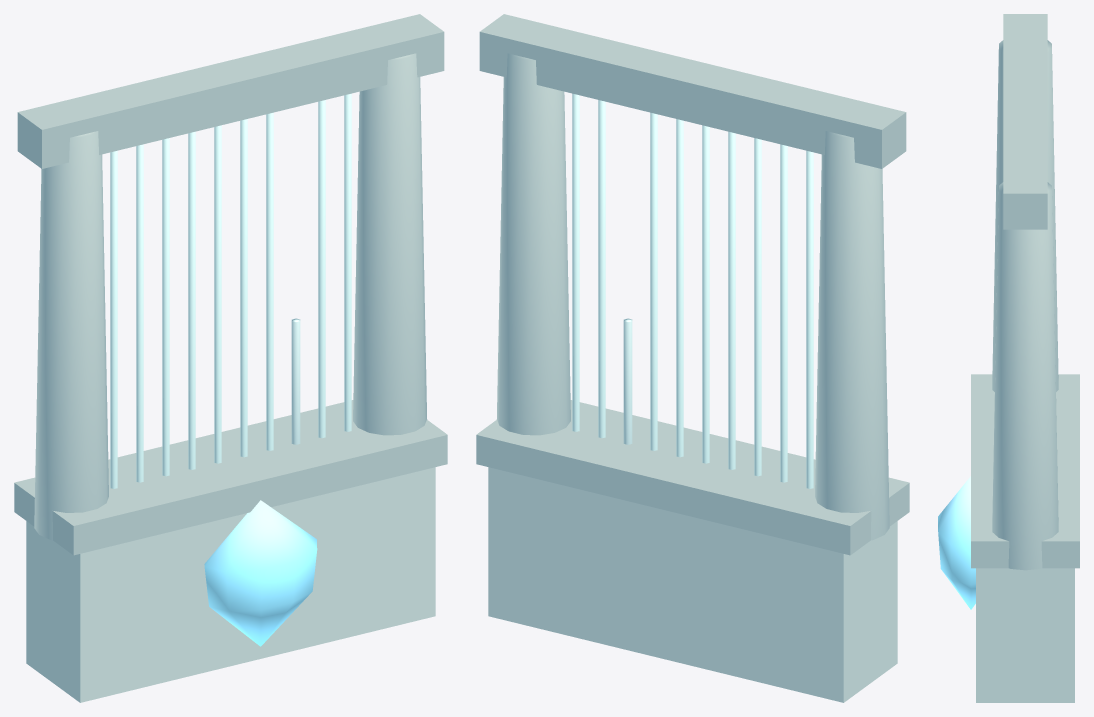
File: davids-cypress-kinnor.glb
3 renders of one model, left to right at view 1: azimuth 30°, elevation 25°; view 2: azimuth 150°, elevation 25°; view 3: azimuth 270°, elevation 25°, orthographic. The views are drawn at different scales.
Parts seen in each view (by area): view 1: DavidsCypressKinnor; view 2: DavidsCypressKinnor; view 3: DavidsCypressKinnor.
Part boxes in pixels (left/top/right/bottom): DavidsCypressKinnor: left=14, top=14, right=447, bottom=702; DavidsCypressKinnor: left=476, top=14, right=909, bottom=702; DavidsCypressKinnor: left=938, top=14, right=1079, bottom=702.
Bounding box in the file's own units: 0.86 × 1.16 × 0.2866.
